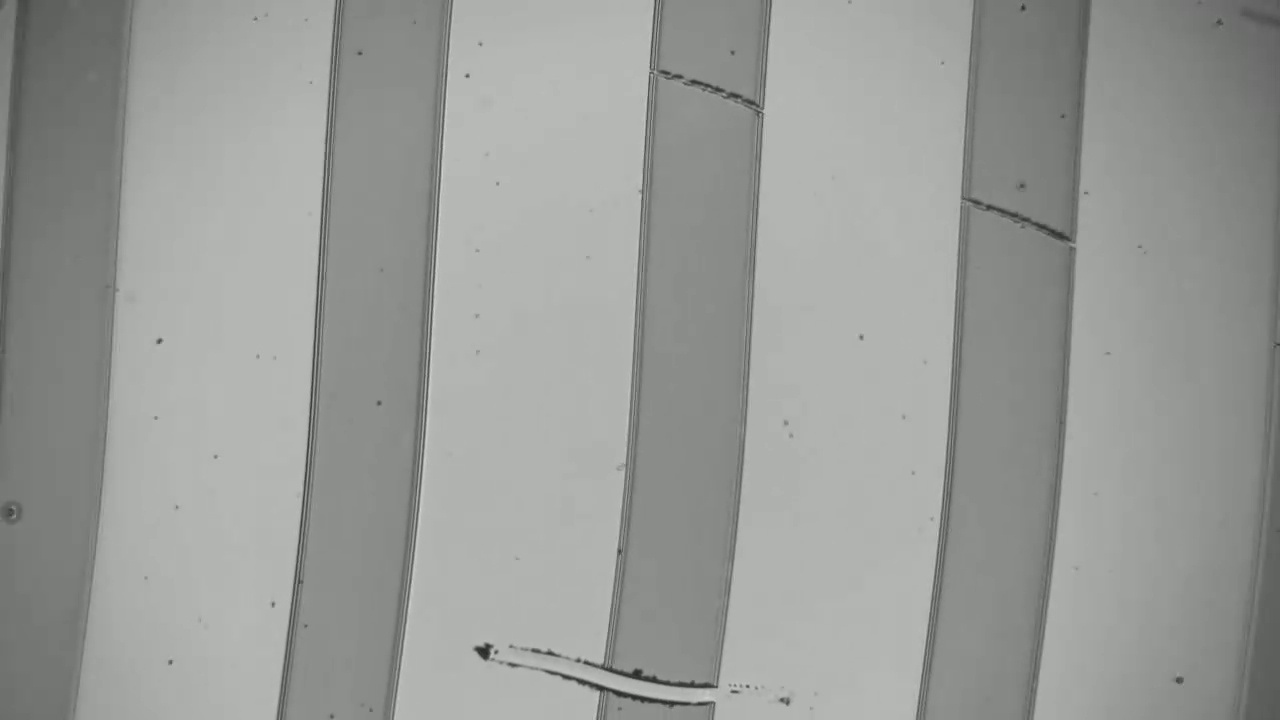Short_circuit: (566, 658, 744, 706), (980, 197, 1066, 247), (666, 67, 752, 112)
